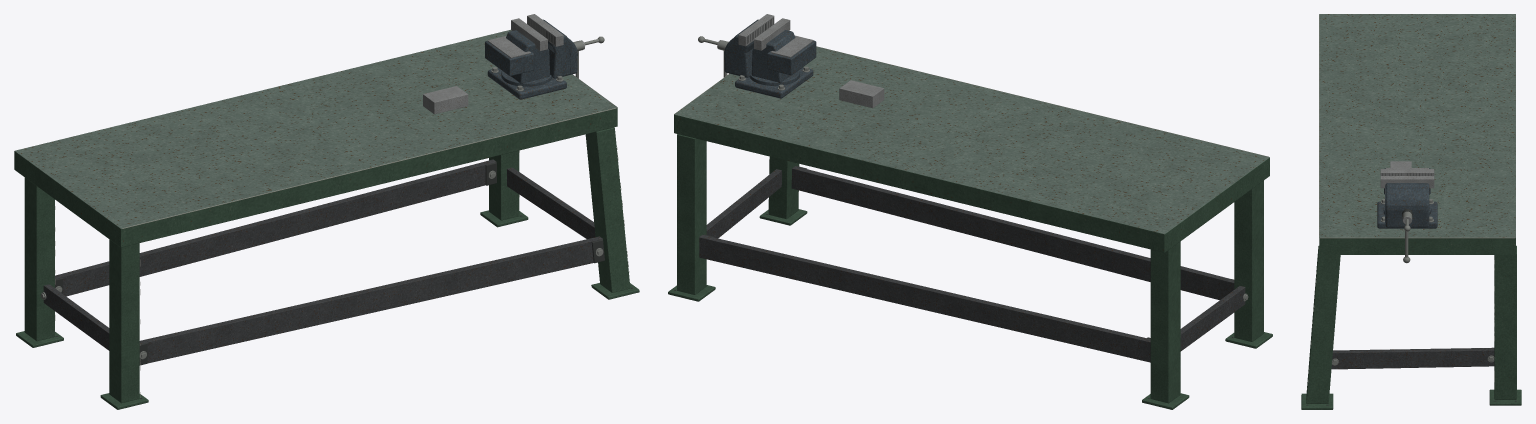
File: industry_workbench.glb
The picture shows the model from 3 angles, left to right: view 1: azimuth 30°, elevation 25°; view 2: azimuth 150°, elevation 25°; view 3: azimuth 270°, elevation 25°; orthographic projection. The views are drawn at different scales.
Visible parts, largest first — view 1: WorkbenchTop, LowerSteelBraceRectangle, LegFrontLeft, LegFrontRight, LegRearLeft, ViseFixedCasting, ViseJawPlatesAndAnvil, LegRearRight, FourSteelFootPlates, ViseMovingHead, LooseSteelBillet, RubbedSteelEdgeDetails; view 2: WorkbenchTop, LowerSteelBraceRectangle, LegRearLeft, LegRearRight, LegFrontLeft, ViseFixedCasting, ViseJawPlatesAndAnvil, FourSteelFootPlates, LegFrontRight, ViseMovingHead, LooseSteelBillet; view 3: WorkbenchTop, LegFrontRight, LegRearRight, LowerSteelBraceRectangle, ViseMovingHead, ViseJawPlatesAndAnvil, RubbedSteelEdgeDetails, FourSteelFootPlates, ViseFixedCasting.
Boxes of the visible parts, left/top/right/bottom form: WorkbenchTop: left=14, top=29, right=617, bottom=247; LowerSteelBraceRectangle: left=43, top=159, right=602, bottom=363; LegFrontLeft: left=109, top=239, right=139, bottom=403; LegFrontRight: left=585, top=127, right=630, bottom=292; LegRearLeft: left=24, top=177, right=54, bottom=341; ViseFixedCasting: left=485, top=30, right=566, bottom=99; ViseJawPlatesAndAnvil: left=487, top=14, right=563, bottom=58; LegRearRight: left=489, top=150, right=519, bottom=220; FourSteelFootPlates: left=16, top=210, right=639, bottom=409; ViseMovingHead: left=543, top=19, right=577, bottom=78; LooseSteelBillet: left=423, top=86, right=468, bottom=114; RubbedSteelEdgeDetails: left=55, top=74, right=629, bottom=397; WorkbenchTop: left=674, top=46, right=1269, bottom=252; LowerSteelBraceRectangle: left=699, top=166, right=1245, bottom=362; LegRearLeft: left=1150, top=241, right=1180, bottom=403; LegRearRight: left=677, top=134, right=706, bottom=294; LegFrontLeft: left=1234, top=180, right=1263, bottom=341; ViseFixedCasting: left=735, top=30, right=816, bottom=98; ViseJawPlatesAndAnvil: left=738, top=14, right=813, bottom=57; FourSteelFootPlates: left=668, top=209, right=1272, bottom=409; LegFrontRight: left=768, top=156, right=799, bottom=218; ViseMovingHead: left=724, top=19, right=758, bottom=77; LooseSteelBillet: left=839, top=80, right=884, bottom=108; WorkbenchTop: left=1319, top=14, right=1515, bottom=254; LegFrontRight: left=1306, top=246, right=1340, bottom=403; LegRearRight: left=1494, top=245, right=1516, bottom=399; LowerSteelBraceRectangle: left=1331, top=347, right=1494, bottom=369; ViseMovingHead: left=1385, top=183, right=1429, bottom=227; ViseJawPlatesAndAnvil: left=1380, top=168, right=1434, bottom=188; RubbedSteelEdgeDetails: left=1307, top=14, right=1514, bottom=388; FourSteelFootPlates: left=1301, top=389, right=1521, bottom=409; ViseFixedCasting: left=1377, top=168, right=1437, bottom=228.
Bounding box in the file's own units: 3.44 × 1.44 × 1.33.
Materials: 17 (14 with a texture image).
